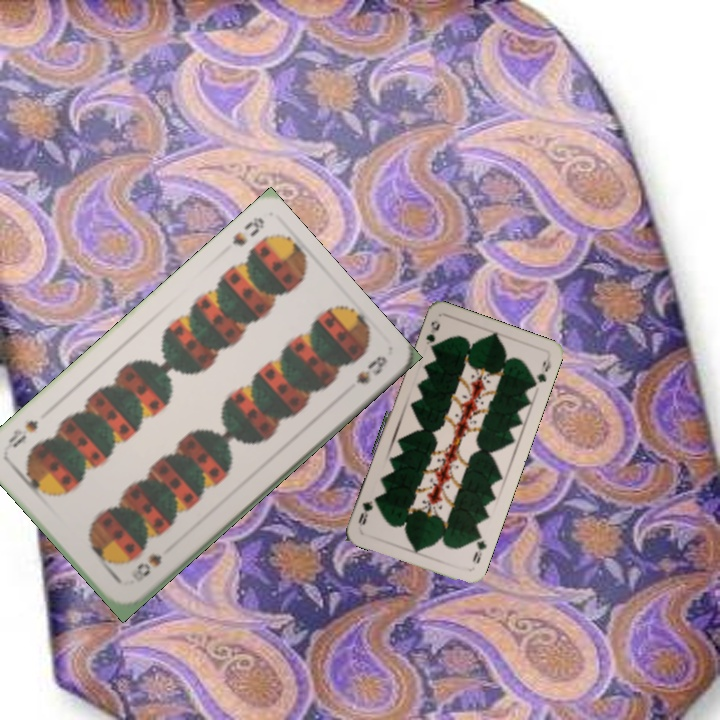G9: (468, 530, 490, 566), (422, 316, 441, 353)
S8: (227, 213, 267, 249), (127, 549, 165, 585)
